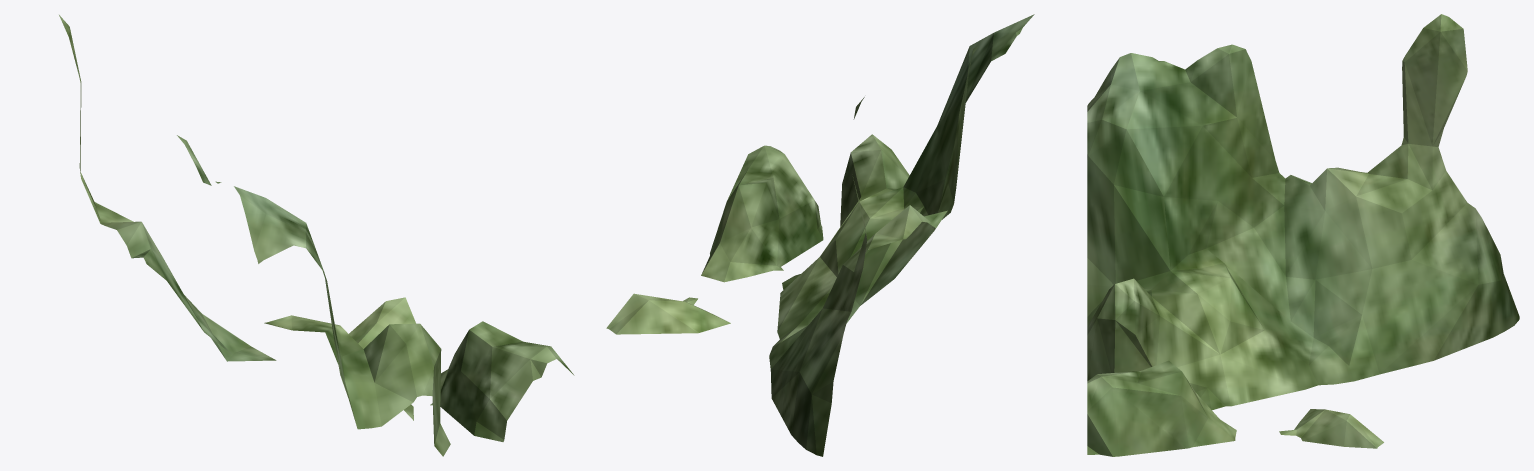
3 views of the same model, side by side, from view 1: azimuth 30°, elevation 25°; view 2: azimuth 150°, elevation 25°; view 3: azimuth 270°, elevation 25° (orthographic). The views are drawn at different scales.
Size of the model in its own units: 2.06 by 2.08 by 2.69.
Materials: 1 (1 with a texture image).
